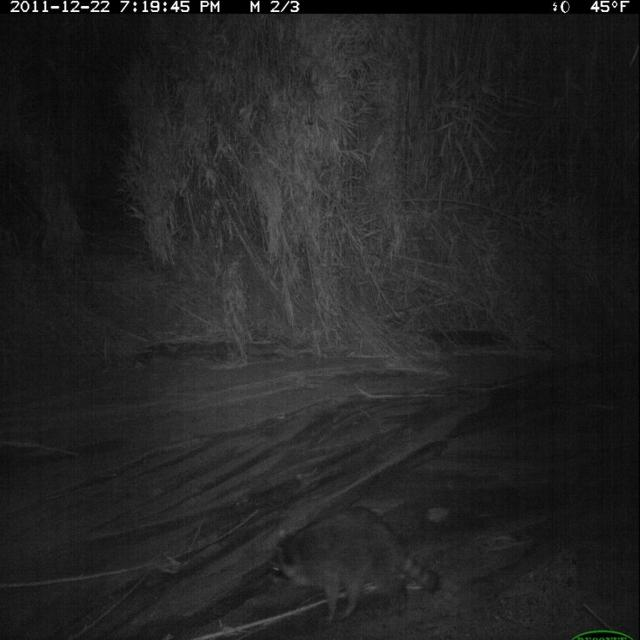raccoon: (264, 508, 443, 629)
